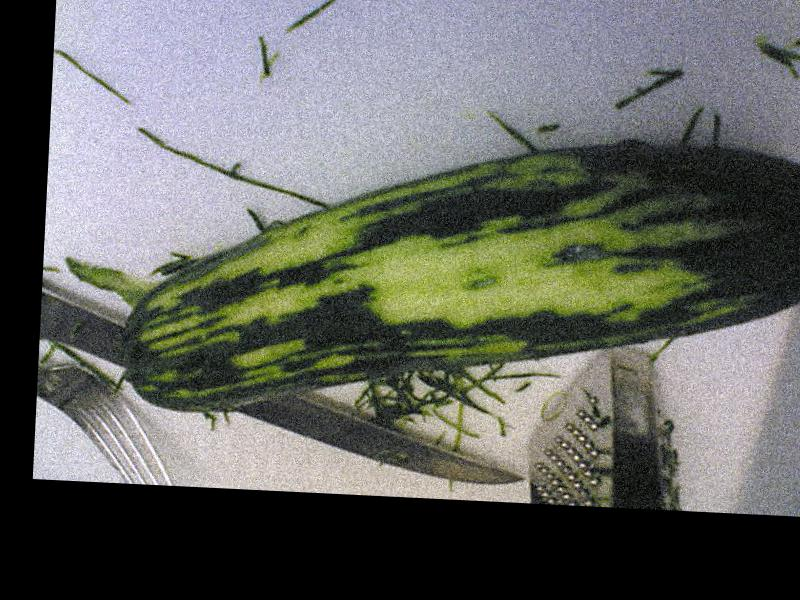Cucumber: (117, 116, 800, 445)
